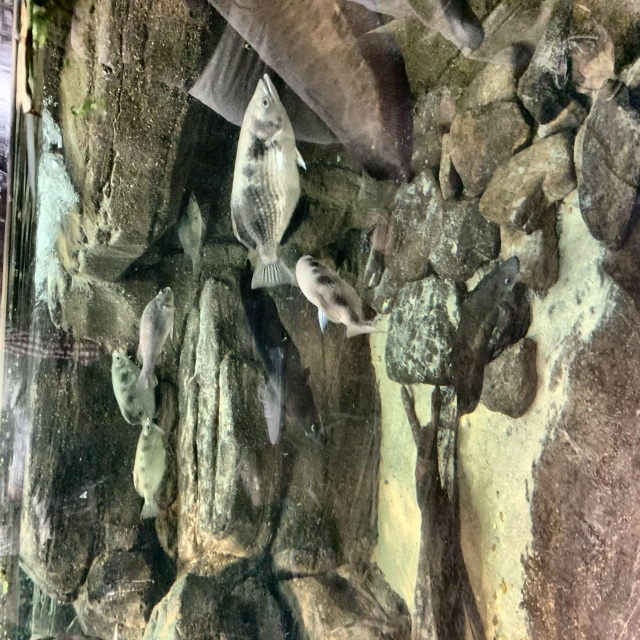fish: (232, 73, 306, 293), (444, 256, 525, 419), (295, 251, 388, 344), (133, 275, 177, 388), (110, 343, 156, 432), (132, 419, 172, 521)
